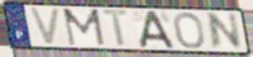A: (138, 9, 177, 49)
M: (61, 7, 107, 47)
N: (206, 12, 245, 51)
O: (172, 11, 207, 50)
T: (100, 8, 133, 49)
V: (28, 6, 64, 47)
